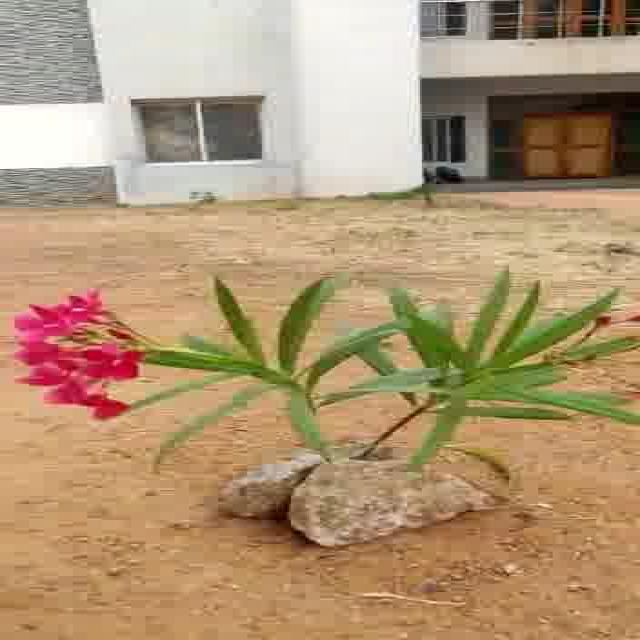Oleander: (40, 272, 637, 462)
